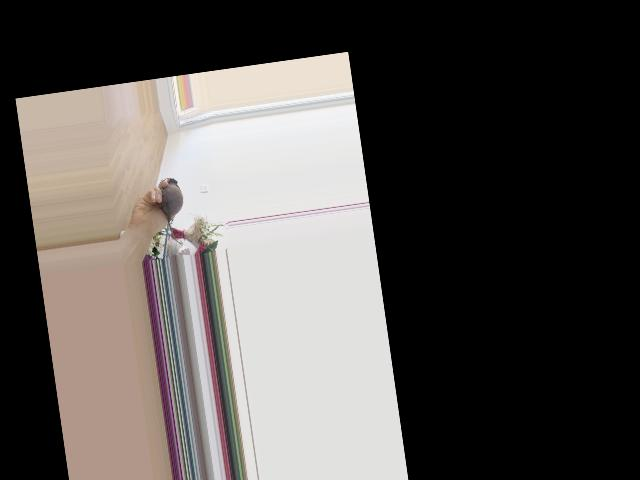beet: (156, 176, 189, 246)
